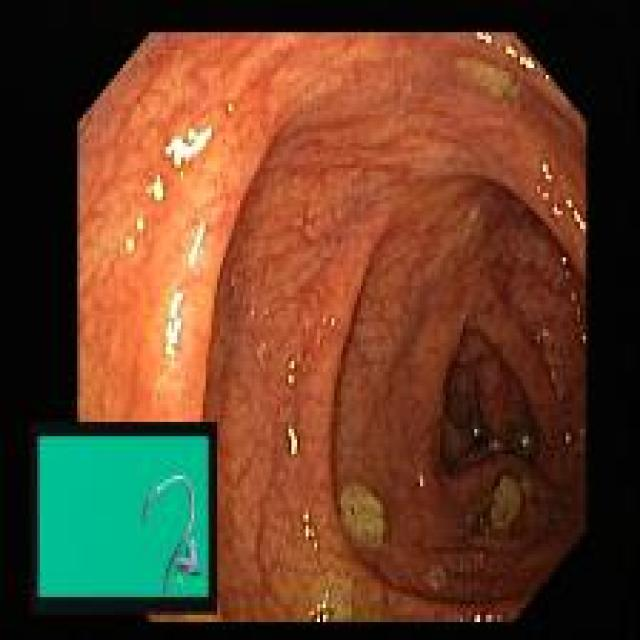ulcerative-colitis: (80, 33, 585, 623)
